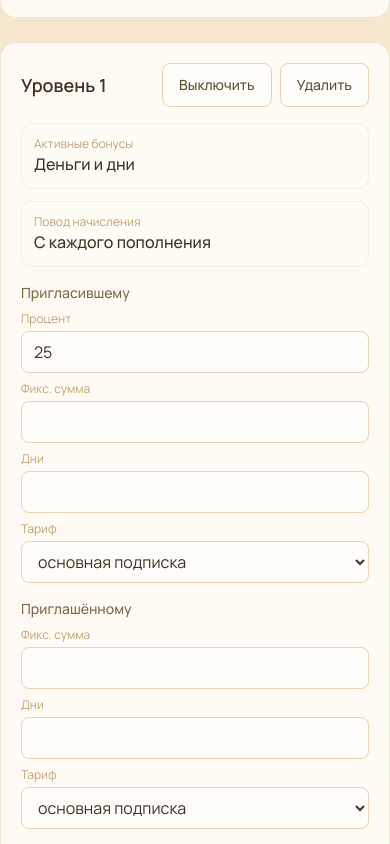
Test: отказы больше не молчат › нечисловой ввод не сохраняется и показывает ошибку
(page scrolled)
Type "много" into the field labelled "Фикс. сумма" below "Процент" at (195, 422), box [21,401,369,443]
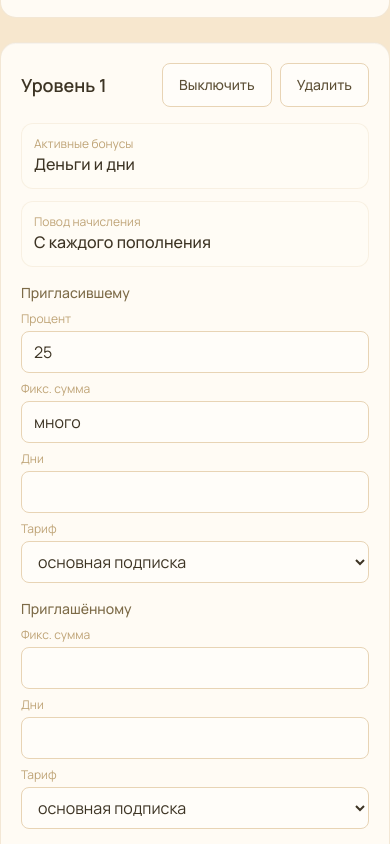
Leave the field labelled "Фикс. сумма" below "Процент", box [21,401,369,443]
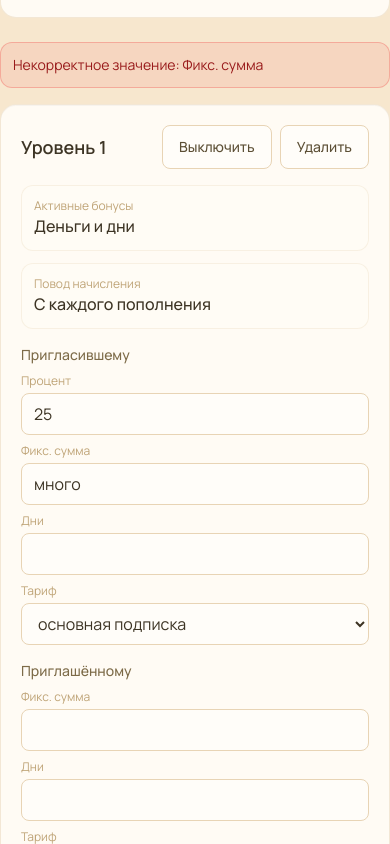
Check: the text "Некорректное значение: Фикс. сумма" is shown, box [0,42,389,88]
